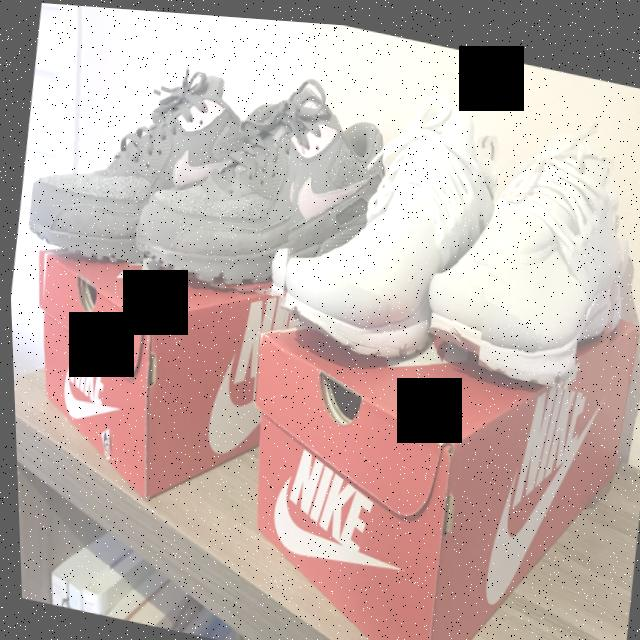shoe: (266, 67, 511, 372), (406, 83, 640, 392), (133, 60, 397, 319), (19, 28, 274, 285)
